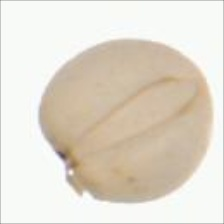L5: (68, 73, 201, 166), (46, 135, 98, 201)
L6: (35, 37, 216, 205)
